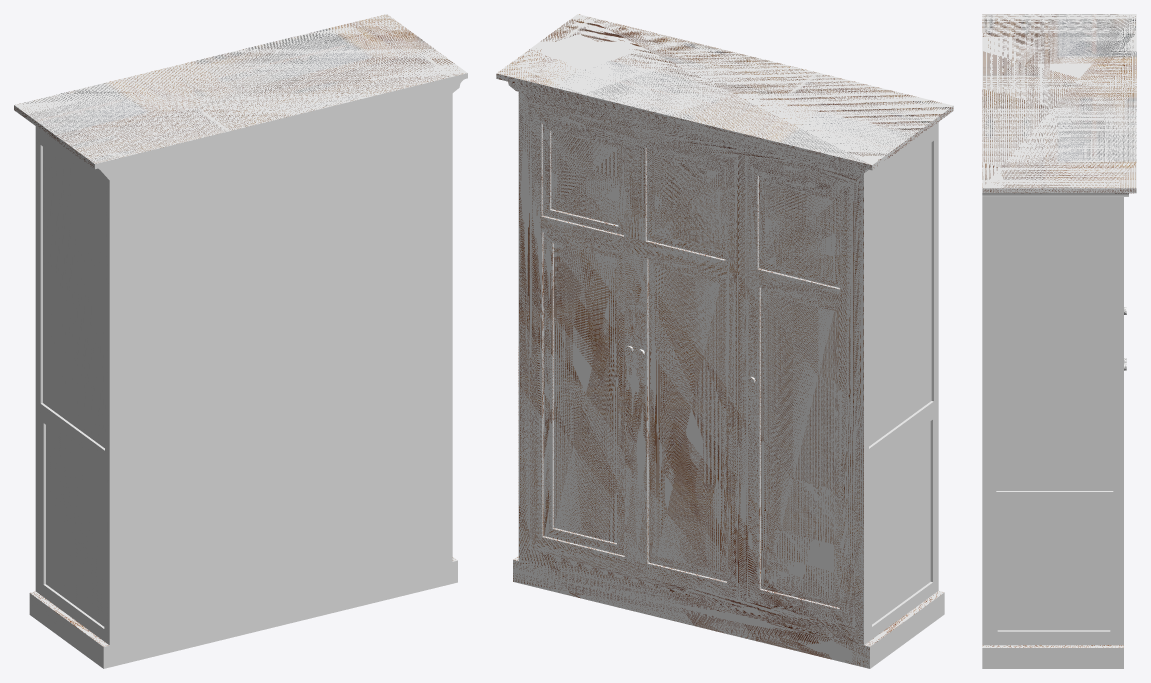
The picture shows the model from 3 angles, left to right: view 1: azimuth 30°, elevation 25°; view 2: azimuth 150°, elevation 25°; view 3: azimuth 270°, elevation 25°; orthographic projection. The views are drawn at different scales.
Visible parts, largest first — view 1: mesh1_mesh1-geometry; view 2: mesh1_mesh1-geometry; view 3: mesh1_mesh1-geometry.
Boxes of the visible parts, x1,y1,x2,y2 form: mesh1_mesh1-geometry: (14,14,467,668); mesh1_mesh1-geometry: (496,14,953,668); mesh1_mesh1-geometry: (982,14,1136,668).
Size of the model in its own units: 0.5947 by 0.7724 by 0.223.
